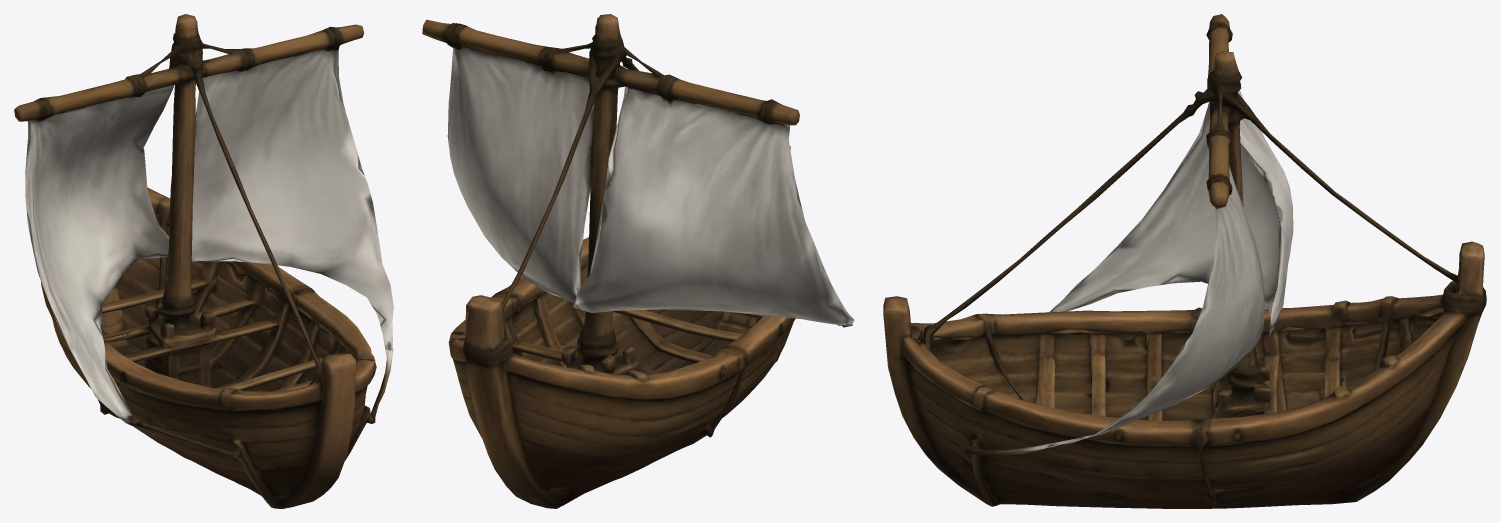
Rendered from sailboat.glb.
3 renders of one model, left to right at view 1: azimuth 30°, elevation 25°; view 2: azimuth 150°, elevation 25°; view 3: azimuth 270°, elevation 25°, orthographic. The views are drawn at different scales.
Visible parts, largest first — view 1: geometry_0; view 2: geometry_0; view 3: geometry_0.
Boxes of the visible parts, left/top/right/bottom form: geometry_0: left=14, top=14, right=393, bottom=508; geometry_0: left=422, top=14, right=854, bottom=508; geometry_0: left=883, top=14, right=1486, bottom=508.
Bounding box in the file's own units: 0.7173 × 0.812 × 0.999.
Materials: 1 (1 with a texture image).
